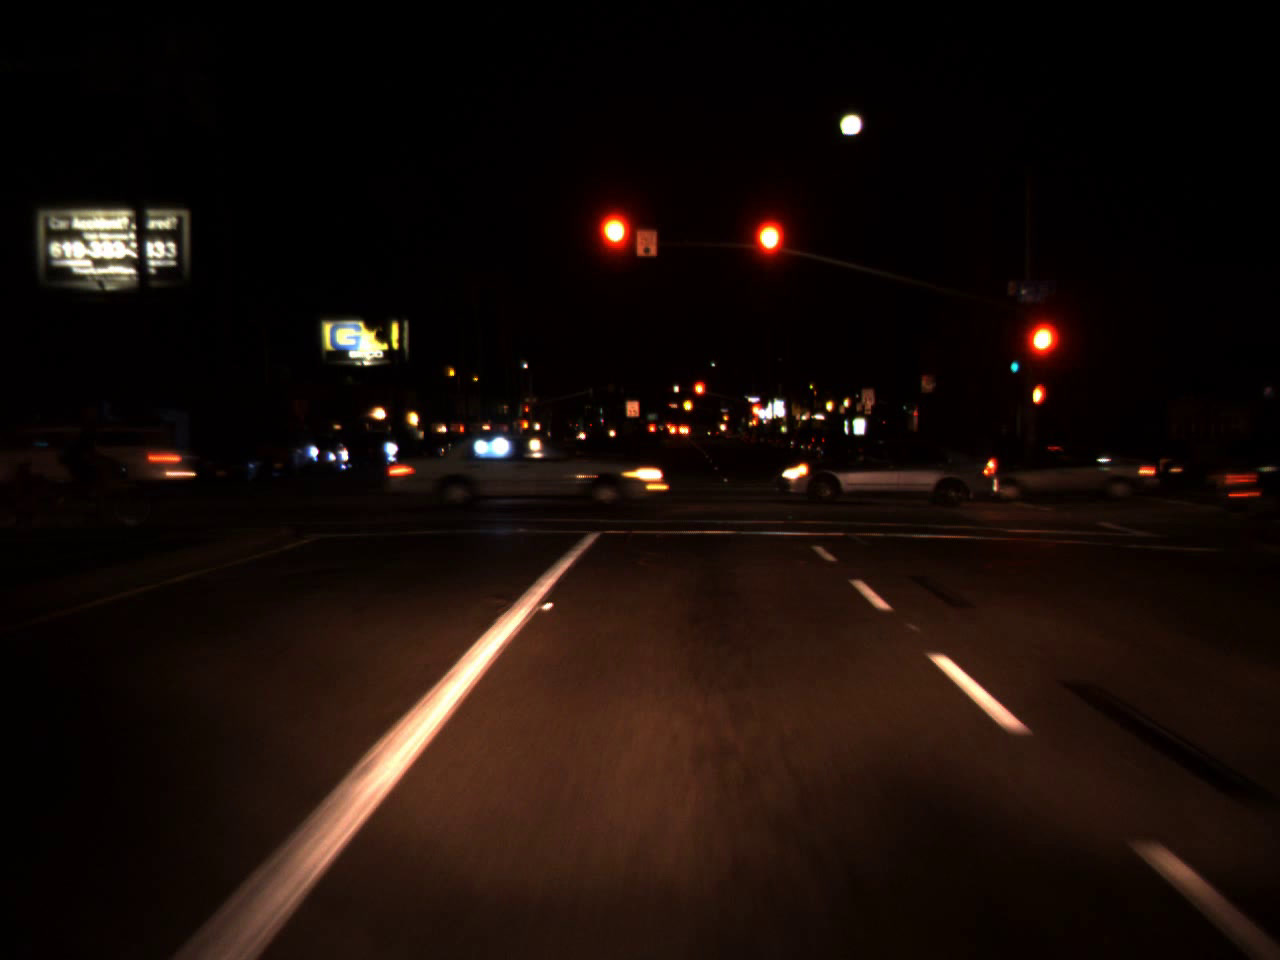stop: (1022, 317, 1061, 395), (751, 214, 788, 292), (597, 213, 634, 288), (693, 380, 708, 409), (521, 404, 530, 419), (751, 402, 758, 415)
warning: (682, 393, 694, 415), (723, 412, 729, 422)
